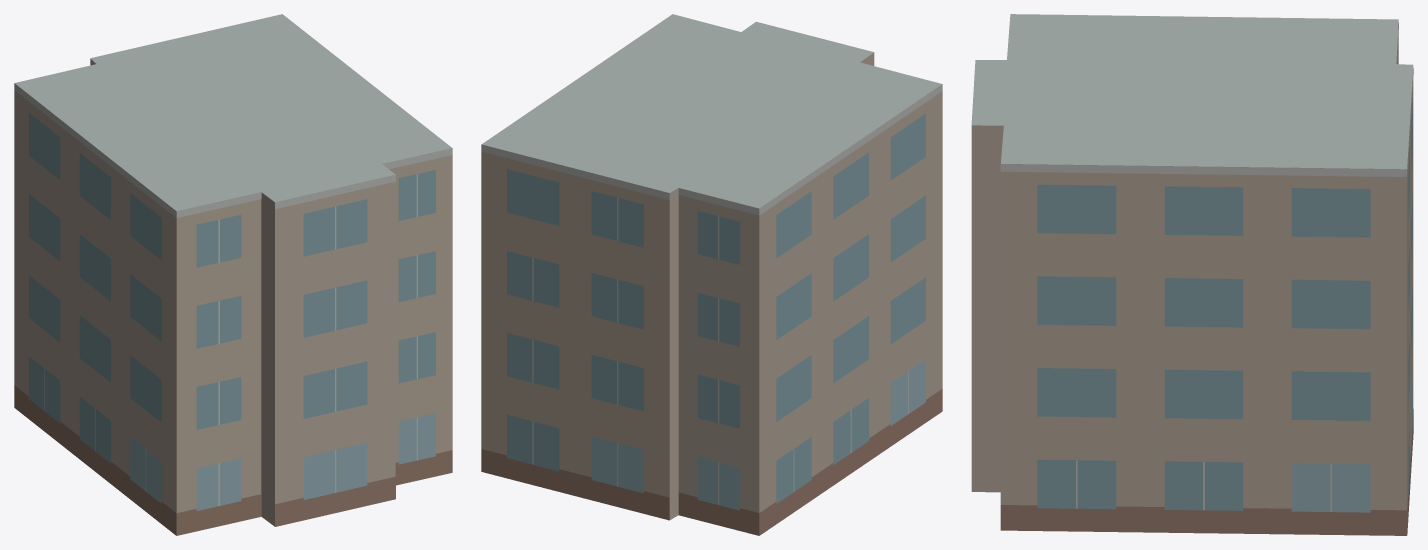
File: survey-upis-32989575.glb
3 renders of one model, left to right at view 1: azimuth 30°, elevation 25°; view 2: azimuth 150°, elevation 25°; view 3: azimuth 270°, elevation 25°, orthographic. The views are drawn at different scales.
Parts seen in each view (by area): view 1: survey-upis-32989575.tmp; view 2: survey-upis-32989575.tmp; view 3: survey-upis-32989575.tmp.
Boxes of the visible parts, x1,y1,x2,y2 form: survey-upis-32989575.tmp: [14, 14, 452, 535]; survey-upis-32989575.tmp: [481, 14, 942, 535]; survey-upis-32989575.tmp: [971, 14, 1413, 535].
Size of the model in its own units: 10.31 by 11.35 by 12.41.
